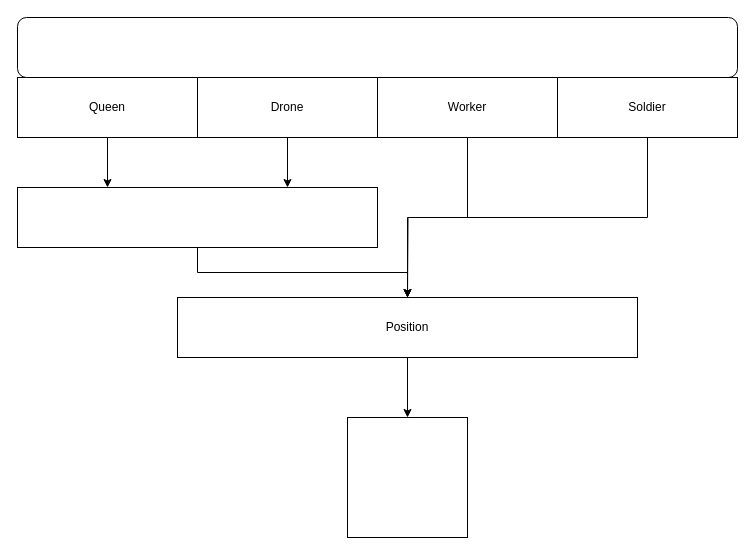
Image size: 755x555. Some labels were removed from this diagram. Each missing label, with the centre of its shape:
"Ant" belongs at (377,47).
"AREA" belongs at (407,477).
"Mating" belongs at (197,217).
